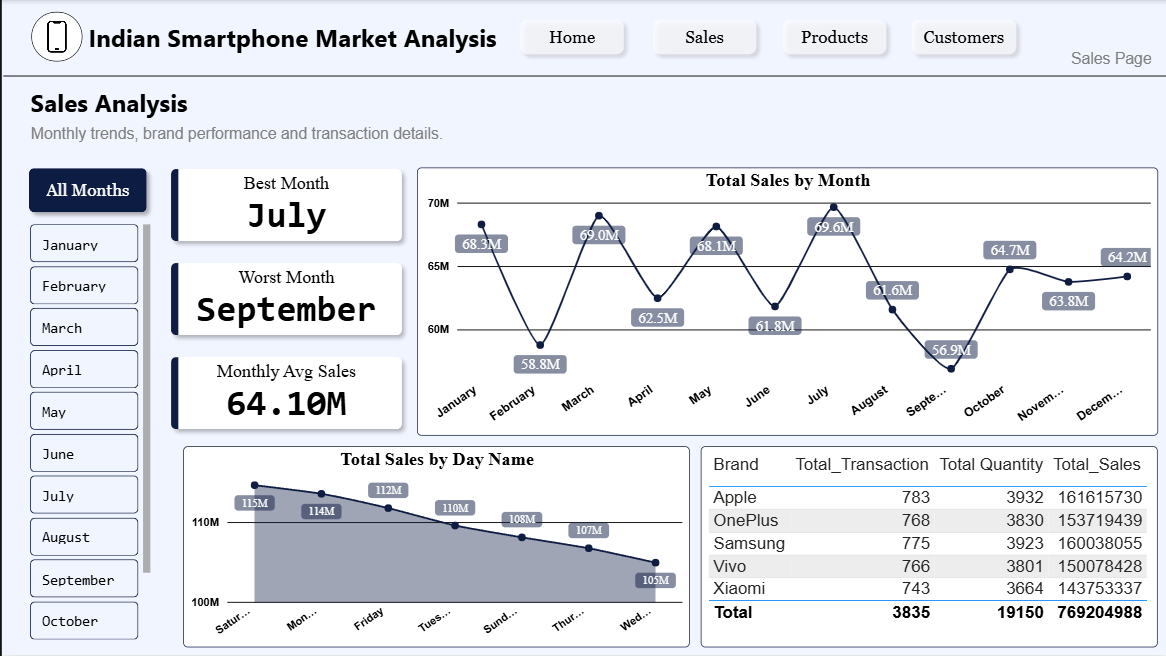

Layout of this report page (visuals, bound fields, positions):
{"tool":"powerbi","page":{"name":"Page 2","canvas":[1280,720],"ordinal":1},"visuals":[{"type":"shape","box":[27,90.8,180.4,42.9],"z":0},{"type":"shape","box":[25.8,133.7,463.8,28.2],"z":1000},{"type":"advancedSlicerVisual","fields":{"Values":["Mobile_Sales_Data.Date.Variation.Date Hierarchy.Month"]},"box":[25.8,241.7,142.3,468.7],"z":2000},{"type":"shape","box":[20.9,175.5,147.2,66.3],"z":3000},{"type":"shape","box":[1.2,74.8,1278.5,16],"z":4000},{"type":"lineChart","title":"Total Sales by Month","fields":{"Category":["Mobile_Sales_Data.Date.Variation.Date Hierarchy.Month","Mobile_Sales_Data.Date.Variation.Date Hierarchy.Day"],"Y":["Mobile_Sales_Data.Total_Sales"]},"box":[455.2,184.1,813.5,294.5],"z":5000},{"type":"areaChart","title":"Total Sales by Day Name","fields":{"Y":["Mobile_Sales_Data.Total_Sales"],"Category":["Mobile_Sales_Data.Day Name"]},"box":[198.8,489.6,555.8,220.9],"z":6000},{"type":"tableEx","fields":{"Values":["Mobile_Sales_Data.Brand","Mobile_Sales_Data.Total_Transaction","Mobile_Sales_Data.Total Quantity","Mobile_Sales_Data.Total_Sales"]},"box":[766.9,489.6,501.8,220.9],"z":7000},{"type":"shape","box":[1164.4,50.3,105.5,28.2],"z":8000},{"type":"cardVisual","fields":{"Data":["Mobile_Sales_Data.Best Month","Mobile_Sales_Data.Worst Month","Mobile_Sales_Data.Monthly Avg Sales"]},"box":[168.1,168.1,287.1,321.5],"z":9000},{"type":"shape","box":[93.3,15.1,451.5,50.8],"z":10000},{"type":"actionButton","box":[560.2,12.3,131.7,56.3],"z":11000},{"type":"actionButton","box":[705.7,12.3,131.7,56.3],"z":12000},{"type":"actionButton","box":[848.4,12.3,131.7,56.3],"z":13000},{"type":"actionButton","box":[989.7,12.3,133.1,56.3],"z":14000},{"type":"image","box":[27.4,8.2,65.9,64.5],"z":15000}]}

Visuals, with their boxes in screenshot pixels (x1, y1, x2, y2), scaled from the page's 1280x720 canvas onto the 1166x656 screenshot:
shape: rect(25, 83, 189, 122)
shape: rect(24, 122, 446, 148)
advancedSlicerVisual - Mobile_Sales_Data.Date.Variation.Date Hierarchy.Month: rect(24, 220, 153, 647)
shape: rect(19, 160, 153, 220)
shape: rect(1, 68, 1165, 83)
"Total Sales by Month" lineChart: rect(415, 168, 1156, 436)
"Total Sales by Day Name" areaChart: rect(181, 446, 687, 647)
tableEx - Mobile_Sales_Data.Brand x Mobile_Sales_Data.Total_Transaction: rect(699, 446, 1156, 647)
shape: rect(1061, 46, 1157, 72)
cardVisual - Mobile_Sales_Data.Best Month x Mobile_Sales_Data.Worst Month: rect(153, 153, 415, 446)
shape: rect(85, 14, 496, 60)
actionButton: rect(510, 11, 630, 63)
actionButton: rect(643, 11, 763, 63)
actionButton: rect(773, 11, 893, 63)
actionButton: rect(902, 11, 1023, 63)
image: rect(25, 7, 85, 66)
